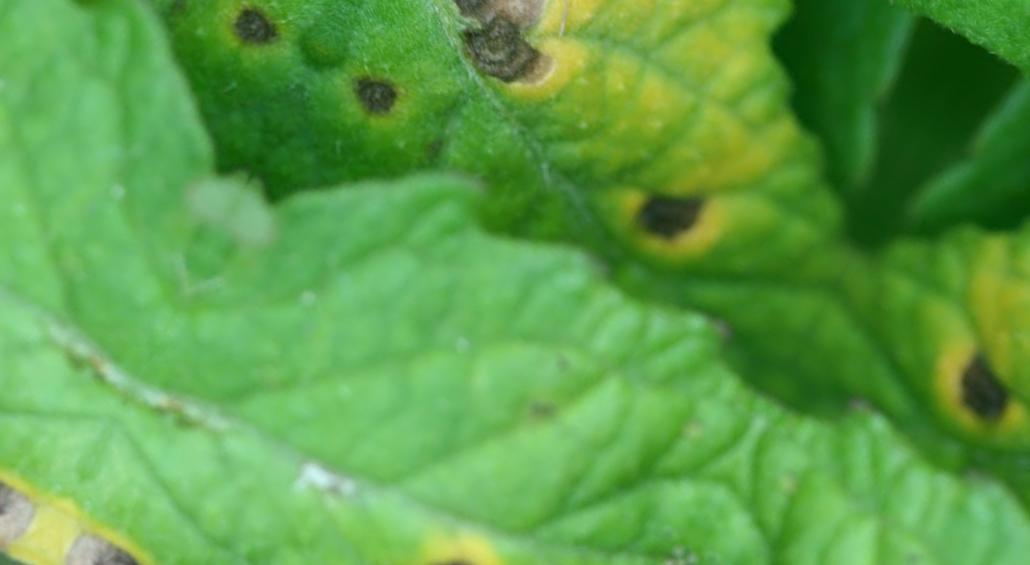Tomato leaf late blight: (211, 0, 1013, 522), (17, 54, 812, 565)
